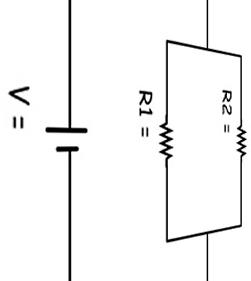resistor: (152, 116, 185, 170), (229, 119, 247, 162)
